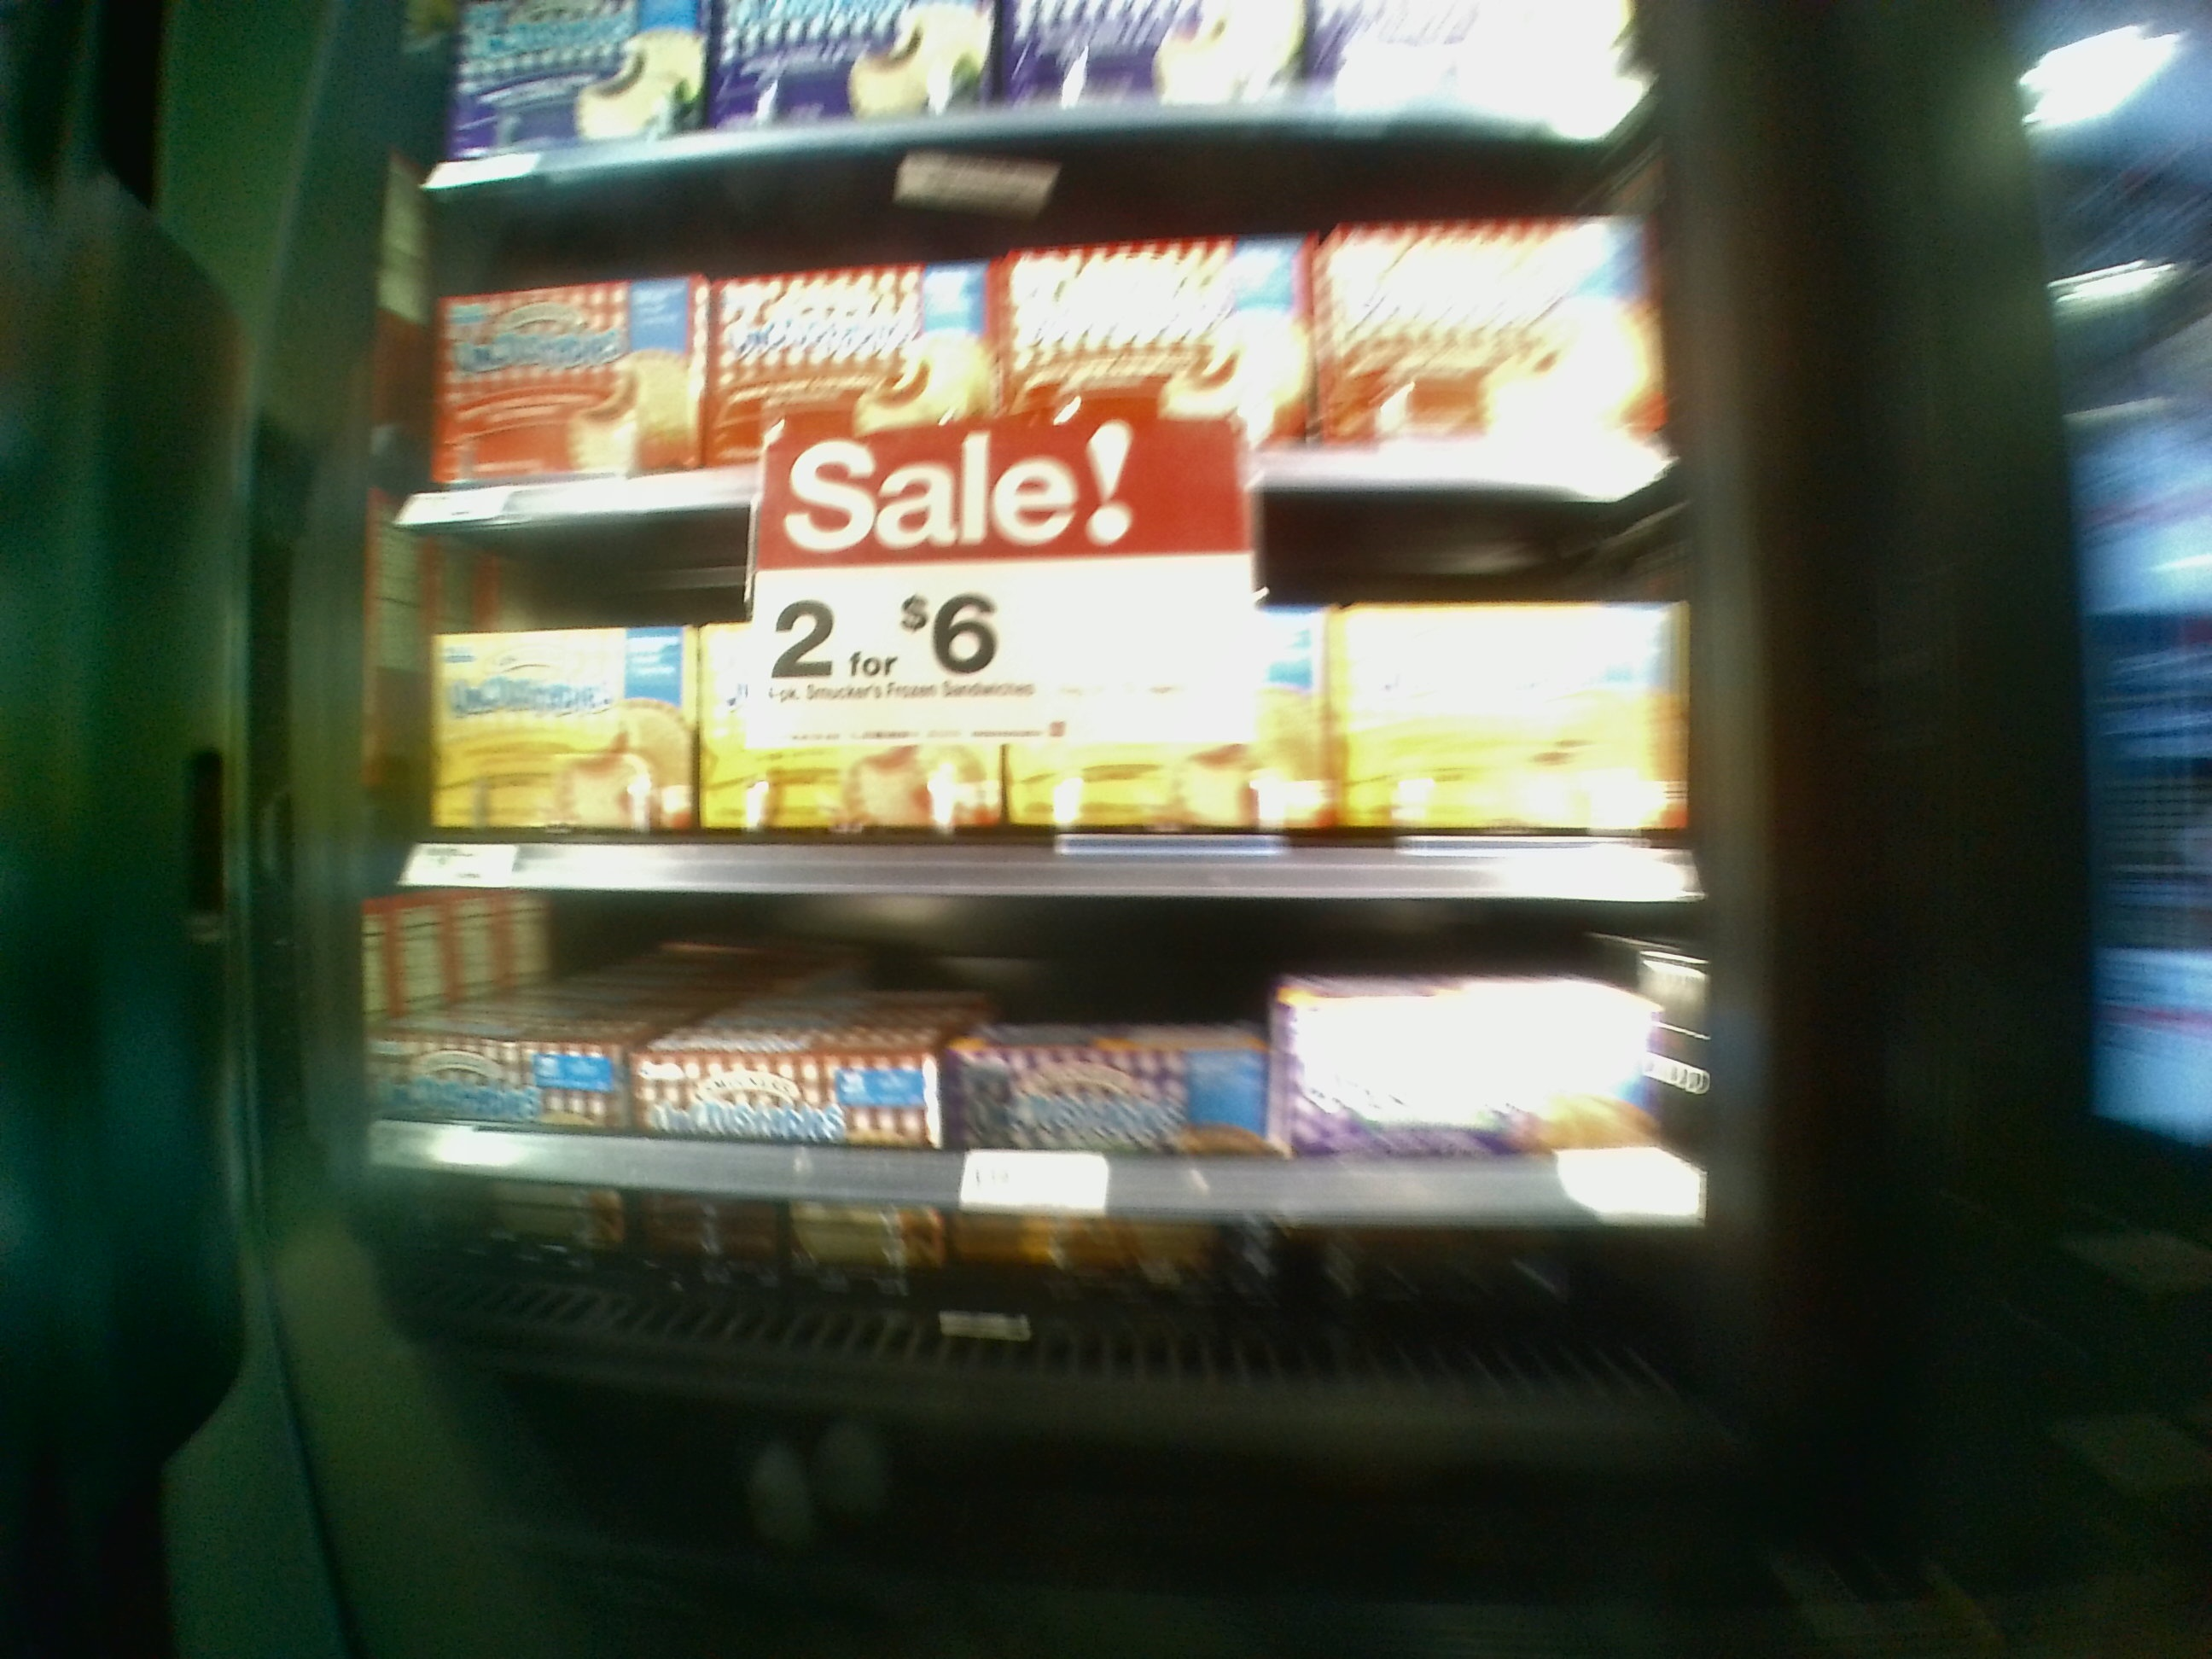shelf: (366, 913, 1710, 1340), (374, 523, 1693, 911), (388, 178, 1663, 512)
